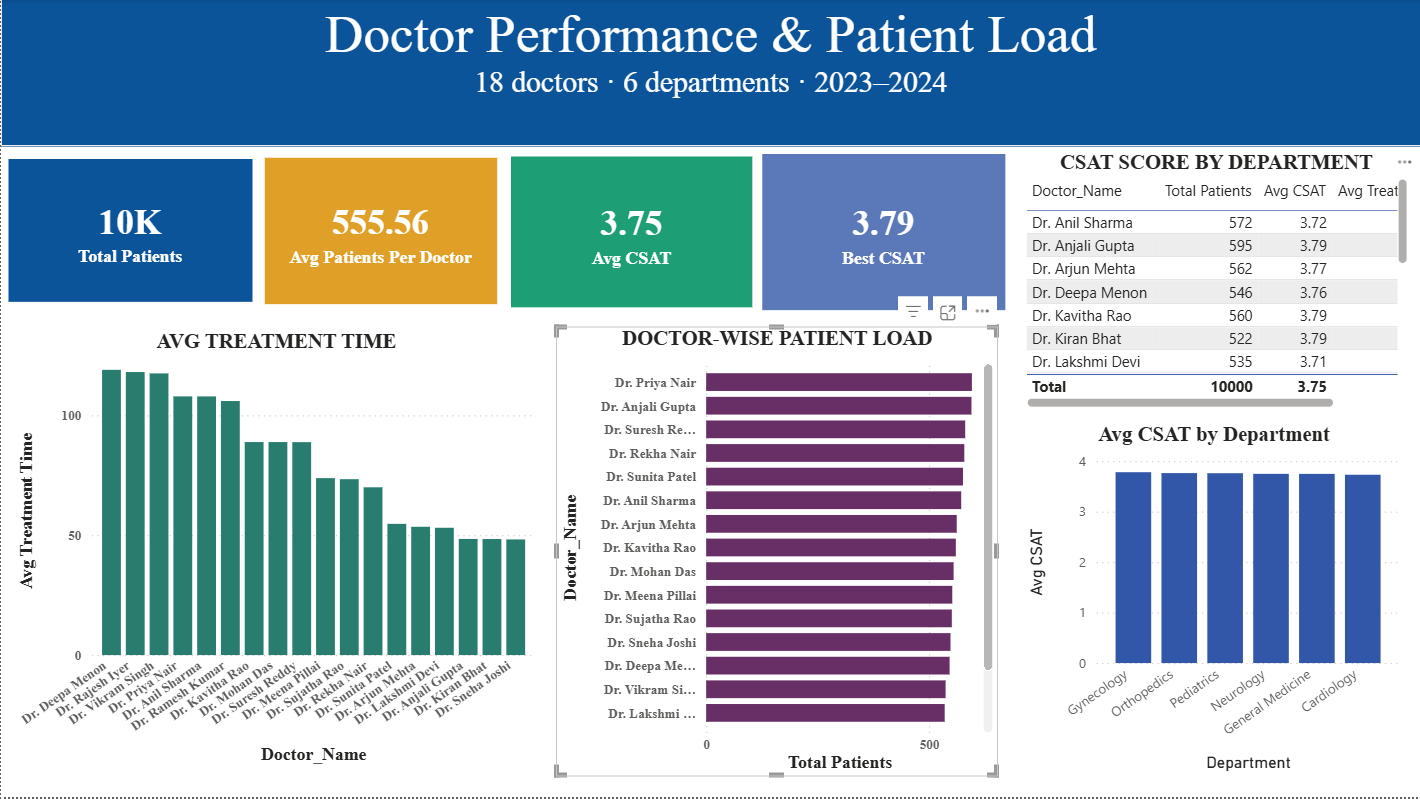

What the dashboard file says about the page in this screenshot:
{"tool":"powerbi","page":{"name":"Doctor Load","canvas":[1280,720],"ordinal":2},"visuals":[{"type":"card","fields":{"Values":["Hospital_ER_Dataset.Total Patients"]},"box":[6.2,144.3,219.7,128.6],"z":0},{"type":"card","fields":{"Values":["Hospital_ER_Dataset.Best CSAT"]},"box":[686.7,139.3,218.9,140.6],"z":1000},{"type":"card","fields":{"Values":["Hospital_ER_Dataset.Avg CSAT"]},"box":[460.3,142.3,217.7,136.3],"z":2000},{"type":"card","fields":{"Values":["Hospital_ER_Dataset.Avg Patients Per Doctor"]},"box":[237.6,143.1,209.2,131.9],"z":3000},{"type":"clusteredBarChart","title":"DOCTOR-WISE PATIENT LOAD ","fields":{"Category":["Hospital_ER_Dataset.Doctor_Name"],"Y":["Hospital_ER_Dataset.Total Patients"]},"box":[500.1,294.8,398.8,406.8],"z":4000},{"type":"tableEx","title":"CSAT SCORE BY DEPARTMENT","fields":{"Values":["Hospital_ER_Dataset.Doctor_Name","Hospital_ER_Dataset.Total Patients","Hospital_ER_Dataset.Avg CSAT","Hospital_ER_Dataset.Avg Treatment Time"]},"box":[918,136.8,354.5,236.8],"z":5000},{"type":"clusteredColumnChart","title":"AVG TREATMENT TIME","fields":{"Category":["Hospital_ER_Dataset.Doctor_Name"],"Y":["Hospital_ER_Dataset.Avg Treatment Time"]},"box":[10,297.3,476.4,396.8],"z":6000},{"type":"clusteredColumnChart","fields":{"Category":["Hospital_ER_Dataset.Department"],"Y":["Hospital_ER_Dataset.Avg CSAT"]},"box":[920.5,381.9,345.8,319.7],"z":7000},{"type":"shape","box":[0,0,1280,133.1],"z":8000},{"type":"textbox","box":[0,0,1280,133.1],"z":9000}]}

Visuals, with their boxes in screenshot pixels (x1, y1, x2, y2), scaled from the page's 1280x720 canvas onto the 1420x800 screenshot:
card - Hospital_ER_Dataset.Total Patients: (x1=7, y1=160, x2=251, y2=303)
card - Hospital_ER_Dataset.Best CSAT: (x1=762, y1=155, x2=1005, y2=311)
card - Hospital_ER_Dataset.Avg CSAT: (x1=511, y1=158, x2=752, y2=310)
card - Hospital_ER_Dataset.Avg Patients Per Doctor: (x1=264, y1=159, x2=496, y2=306)
"DOCTOR-WISE PATIENT LOAD " clusteredBarChart: (x1=555, y1=328, x2=997, y2=780)
"CSAT SCORE BY DEPARTMENT" tableEx: (x1=1018, y1=152, x2=1412, y2=415)
"AVG TREATMENT TIME" clusteredColumnChart: (x1=11, y1=330, x2=540, y2=771)
clusteredColumnChart - Hospital_ER_Dataset.Department x Hospital_ER_Dataset.Avg CSAT: (x1=1021, y1=424, x2=1405, y2=780)
shape: (x1=0, y1=0, x2=1419, y2=148)
textbox: (x1=0, y1=0, x2=1419, y2=148)
